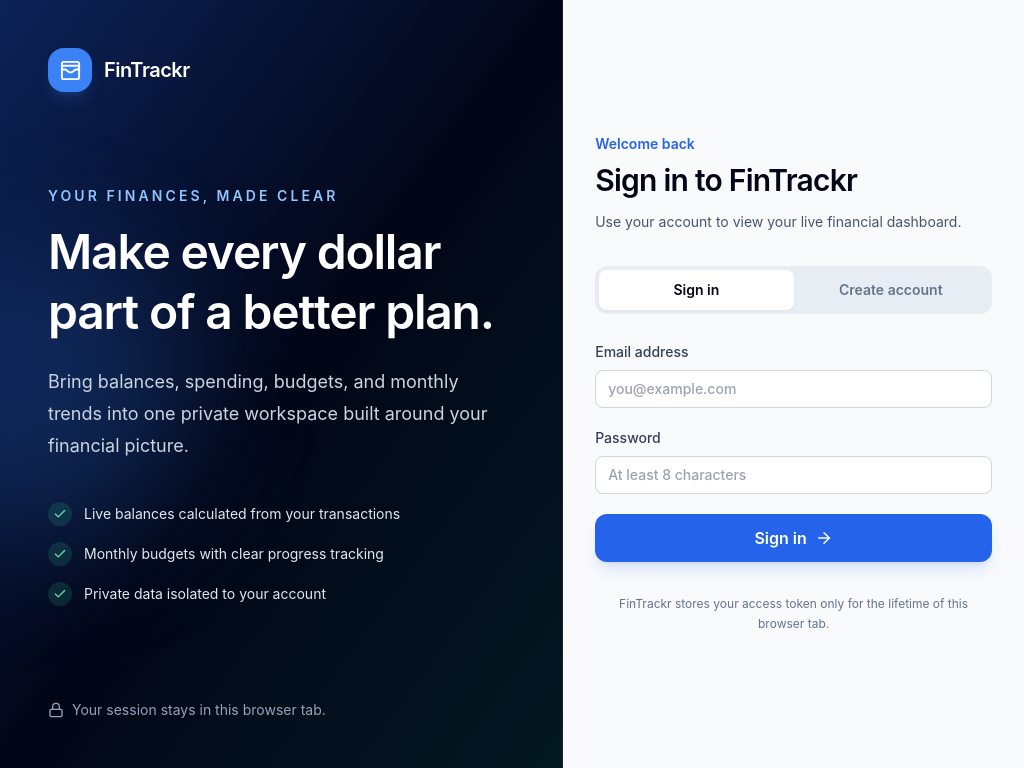
Test: AuthPage › switches to account creation
Click the button "Create account": (891,290) [794, 270, 988, 310]
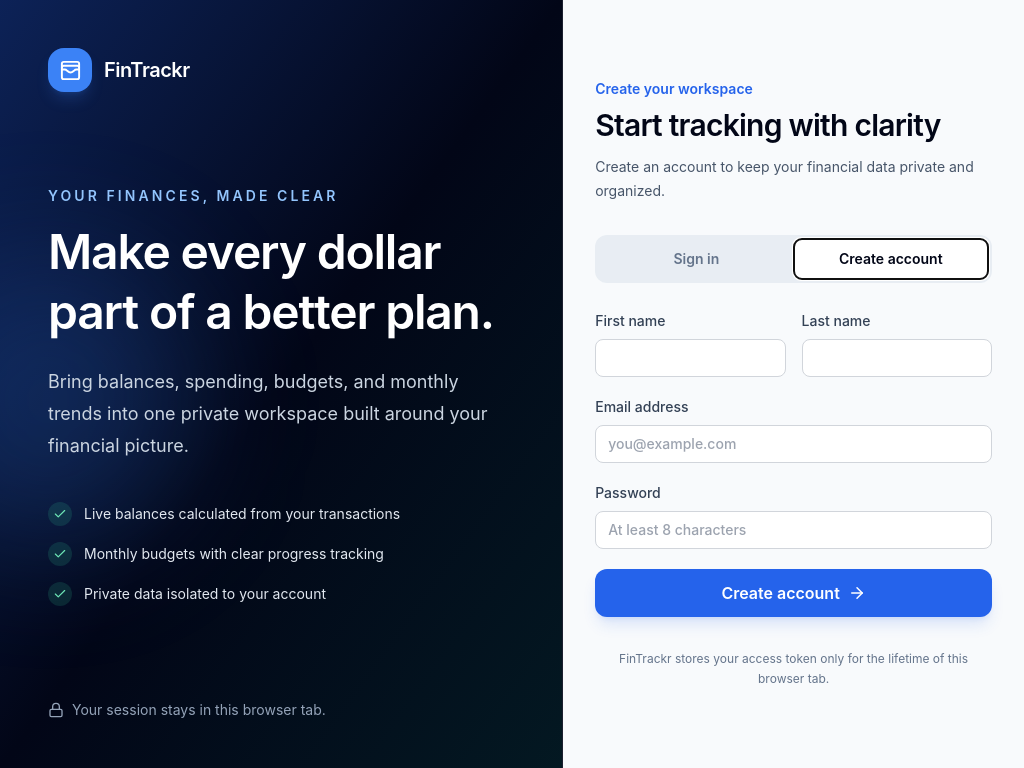
expect the heading "Start tracking with clarity" is shown: met, box [595, 107, 992, 143]
expect the field labelled "First name" is shown: met, box [595, 339, 786, 377]
expect the field labelled "Last name" is shown: met, box [802, 339, 992, 377]
